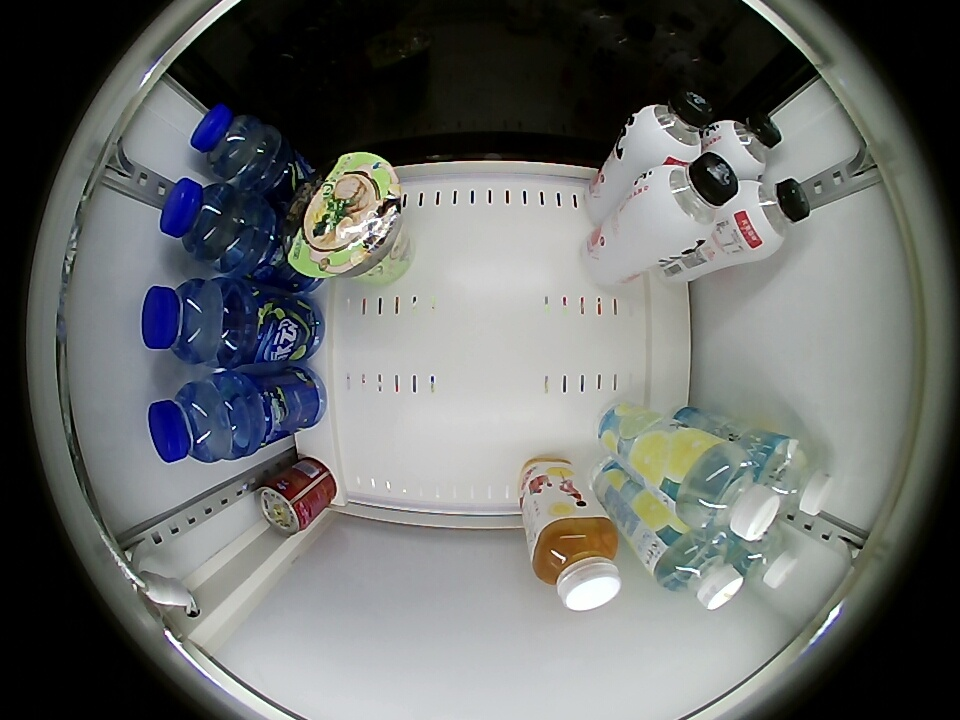chapai: (529, 516, 622, 611)
maidong: (158, 178, 257, 266), (147, 376, 245, 464), (141, 278, 232, 363), (189, 104, 276, 184)
qinningshui: (675, 437, 780, 543), (652, 531, 745, 610), (761, 437, 834, 516), (732, 526, 797, 589)
tangdaren: (283, 151, 405, 281)
wangzainiunai: (257, 470, 323, 535)
yuanqishui: (637, 152, 739, 253), (626, 88, 712, 169), (729, 178, 810, 255), (707, 110, 783, 180)
